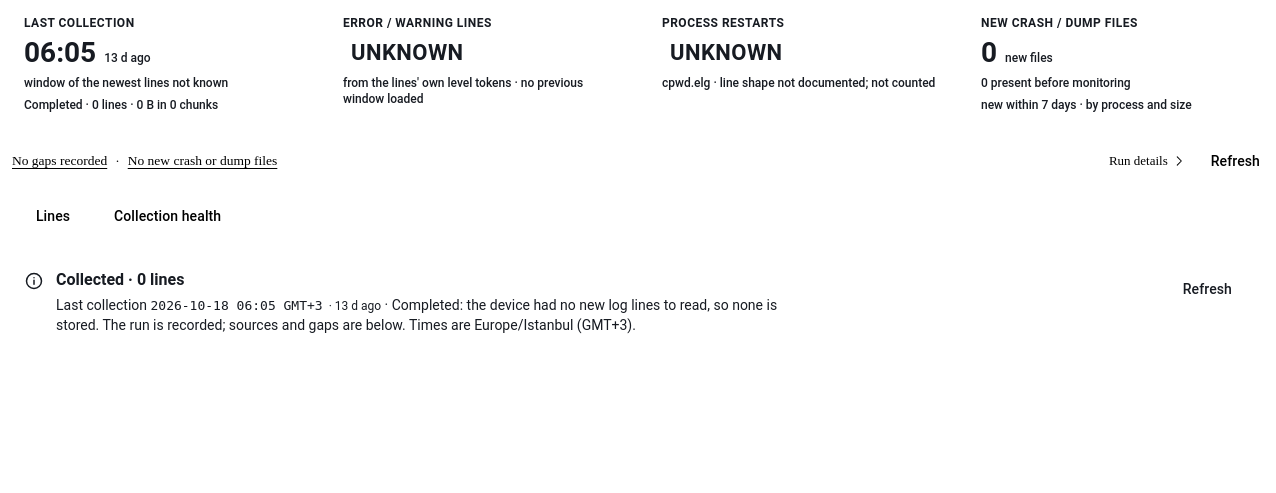
Scenario: the Logs tab renders each sub-state › collected with 0 lines, naming the run
Expected: the text "Collected · 0 lines" is shown, [56,270,184,289]
Expected: the text "the device had no new log lines to read" is shown, [56,297,777,333]
Click the tab "Collection health" at (168, 217), box [98,193,237,241]
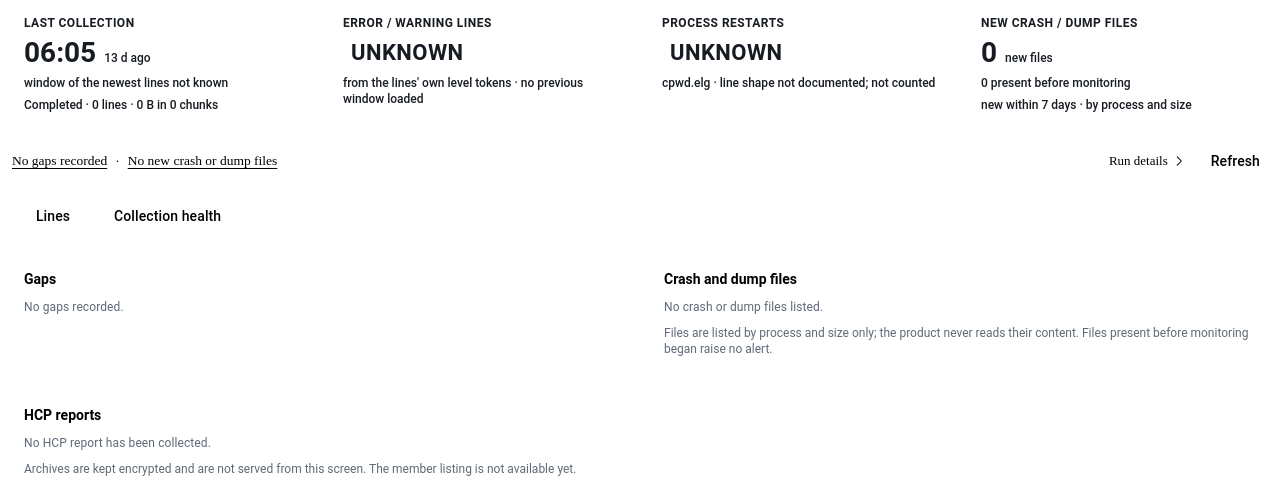
Expected: the heading "Gaps" is shown, [24,271,56,287]
